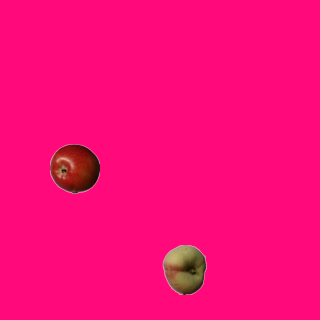Apple Braeburn: (49, 143, 99, 193)
Peach Flat: (159, 244, 209, 294)
